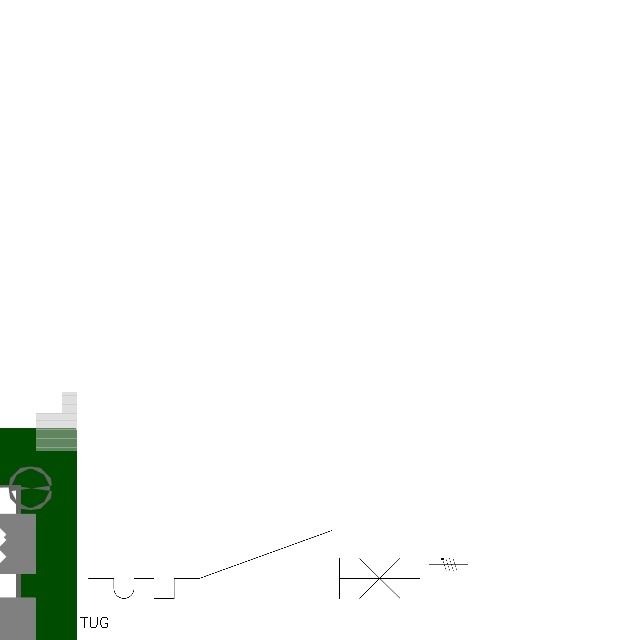interruptor_termomagnetico: (80, 522, 428, 607)
